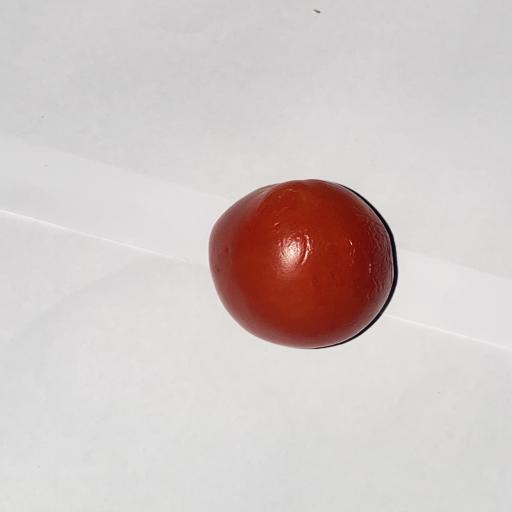spoiled: (209, 180, 394, 348)
